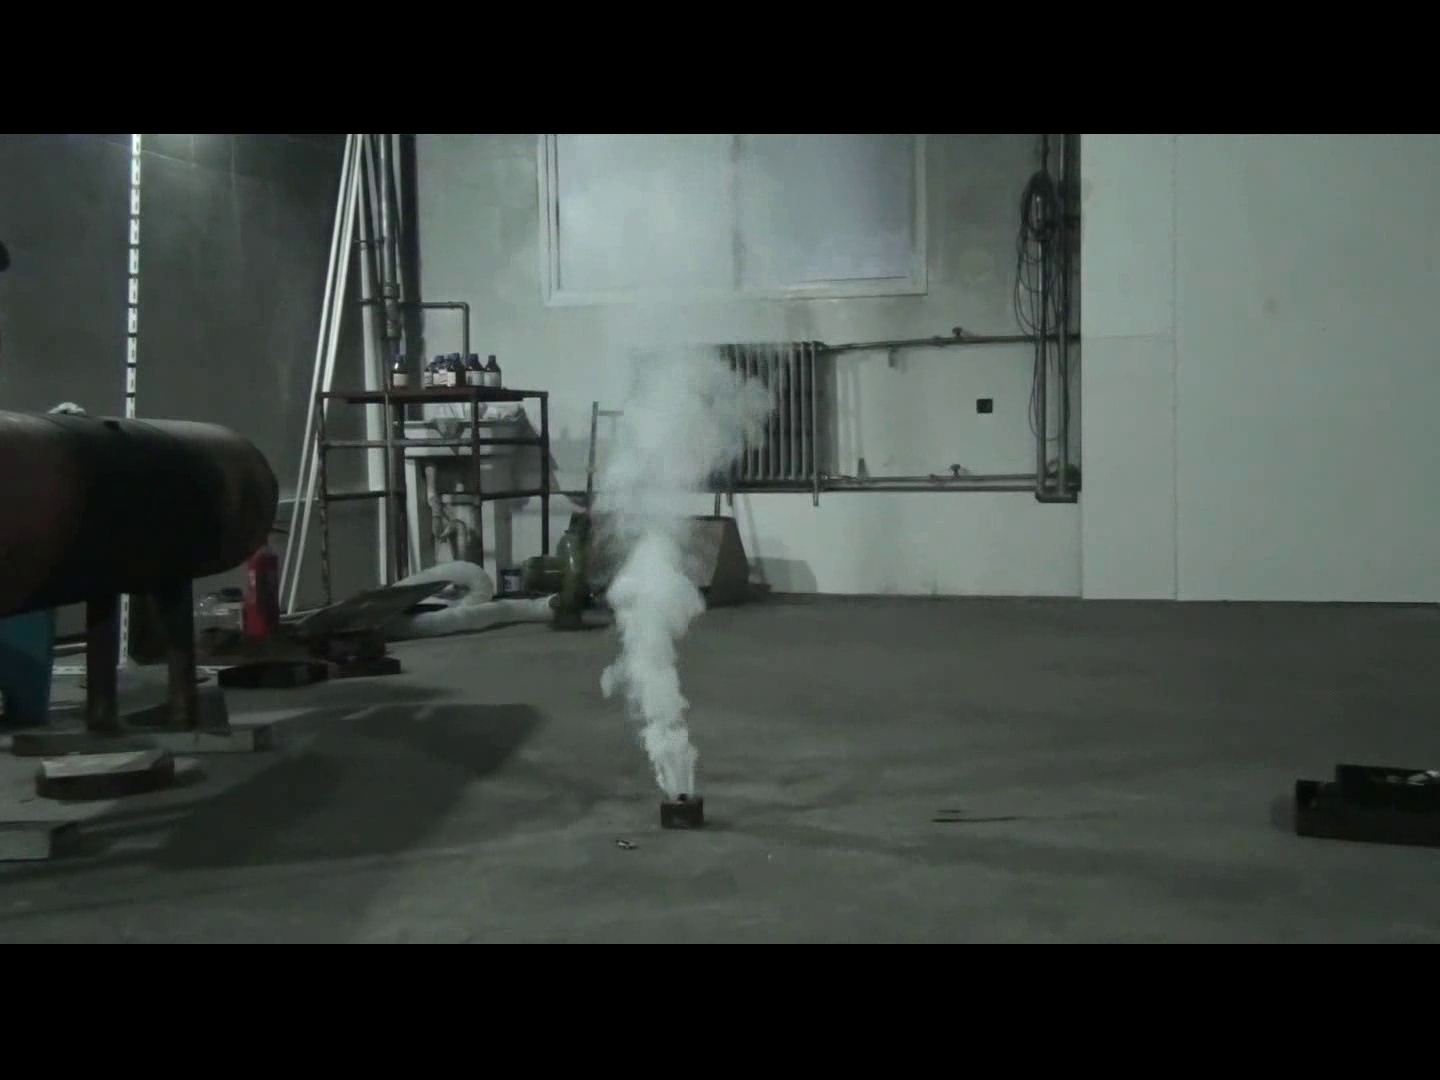smoke: (604, 341, 778, 801)
